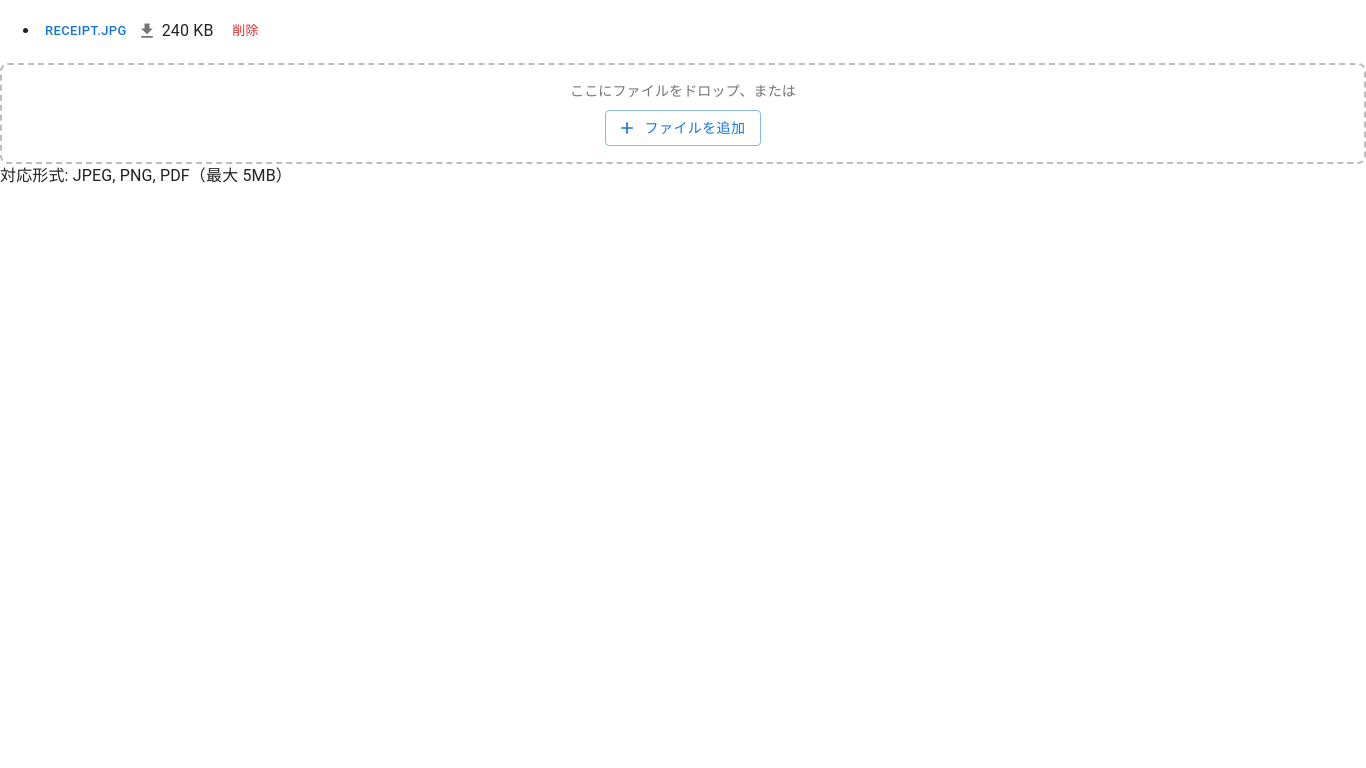
Scenario: AttachmentArea 統合テスト › ATT-FE-048: 削除失敗時にエラートーストが表示される
The width and height of the screenshot is (1366, 768).
Expected: the element with test id "attachment-area" is shown, [0,16,1365,188]
Note: 削除ボタンをクリックして確認ダイアログを表示する（2段階削除）。
Click the button with test id "attachment-delete-att-001". click: (246, 31)
box: [214,16,278,47]
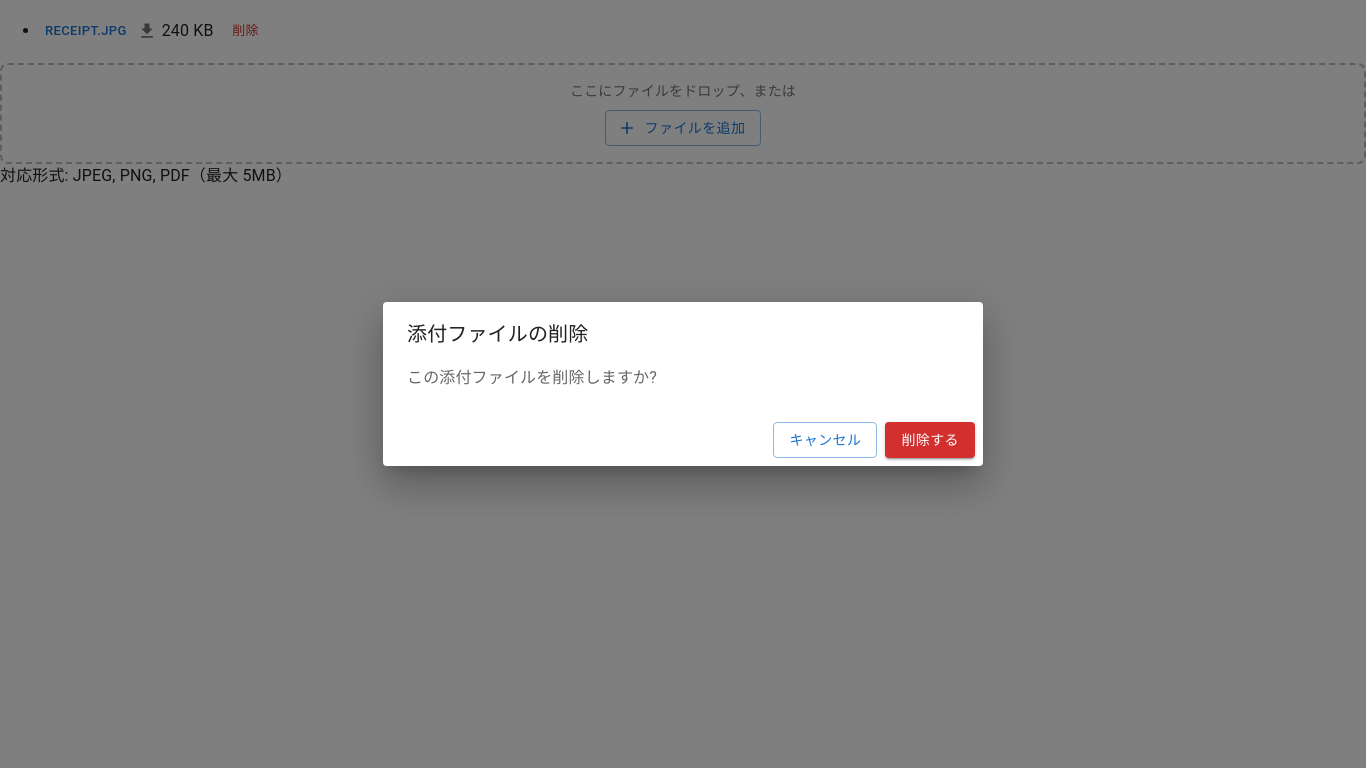
Note: ConfirmDialog の「削除する」ボタンをクリックして実際の削除を実行する。
Click the button "削除する". click: (930, 440)
box: [885,422,975,458]
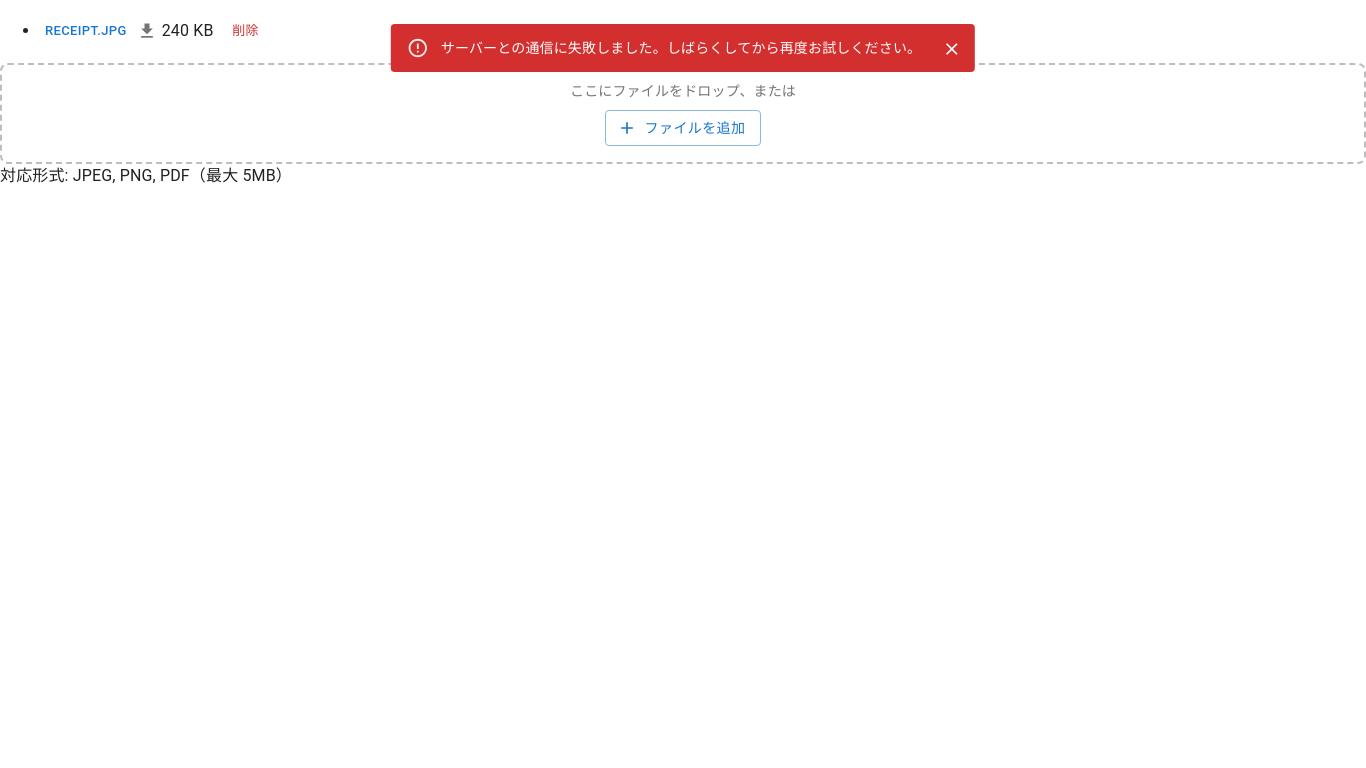
Expected: the message "サーバーとの通信に失敗しました。しばらくしてから再度お試しください。" is shown, [391,24,975,72]
Expected: the message reads "サーバーとの通信に失敗しました。しばらくしてから再度お試しください。", [441,40,921,56]
